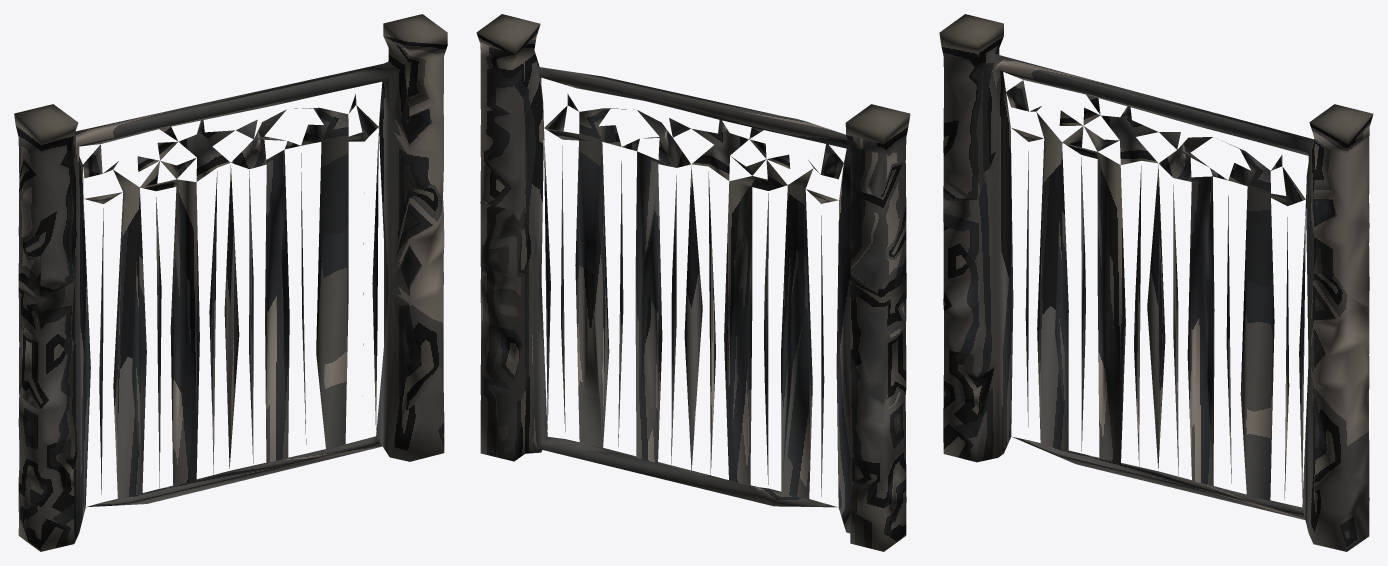
File: fence_lux.glb
3 views of the same model, side by side, from view 1: azimuth 30°, elevation 25°; view 2: azimuth 150°, elevation 25°; view 3: azimuth 330°, elevation 25° (orthographic).
Visible parts, largest first — view 1: LO; view 2: LO; view 3: LO.
Part boxes in pixels (x1,y1,x2,y2): LO: (14,14,447,551); LO: (476,14,910,551); LO: (939,14,1373,551).
Bounding box in the file's own units: 3 × 3 × 0.3266.
1 material, 1 textured.
